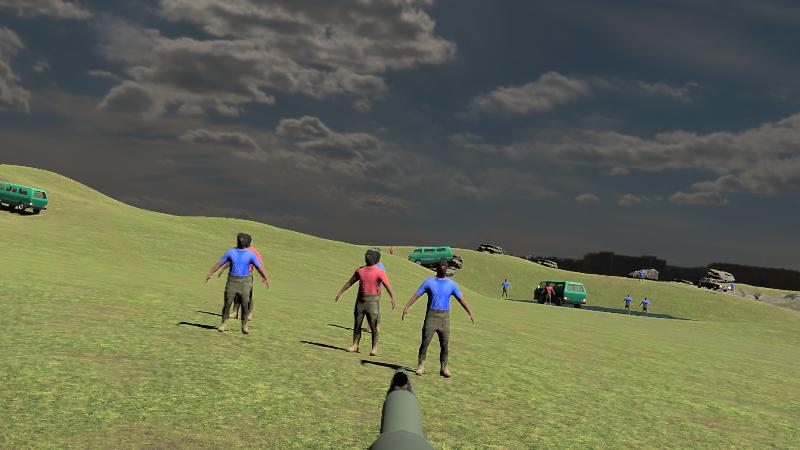Human: (402, 259, 474, 379), (206, 232, 269, 334), (336, 250, 395, 356)
car: (0, 181, 49, 215)
